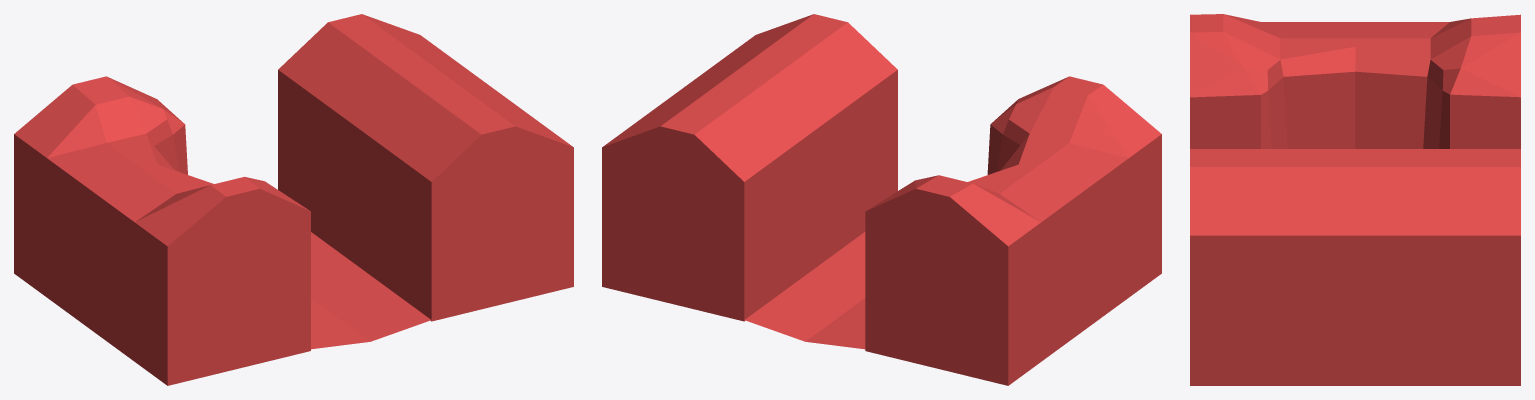
File: Ground_Firebay_Wood_B_COL.fbx
The picture shows the model from 3 angles, left to right: view 1: azimuth 30°, elevation 25°; view 2: azimuth 150°, elevation 25°; view 3: azimuth 270°, elevation 25°; orthographic projection. The views are drawn at different scales.
Parts seen in each view (by area): view 1: Ground_Firebay_Wood_B_COL; view 2: Ground_Firebay_Wood_B_COL; view 3: Ground_Firebay_Wood_B_COL.
Boxes of the visible parts, x1,y1,x2,y2 form: Ground_Firebay_Wood_B_COL: [14, 14, 573, 385]; Ground_Firebay_Wood_B_COL: [602, 14, 1161, 385]; Ground_Firebay_Wood_B_COL: [1190, 14, 1520, 385].
Size of the model in its own units: 611 by 260 by 400.
